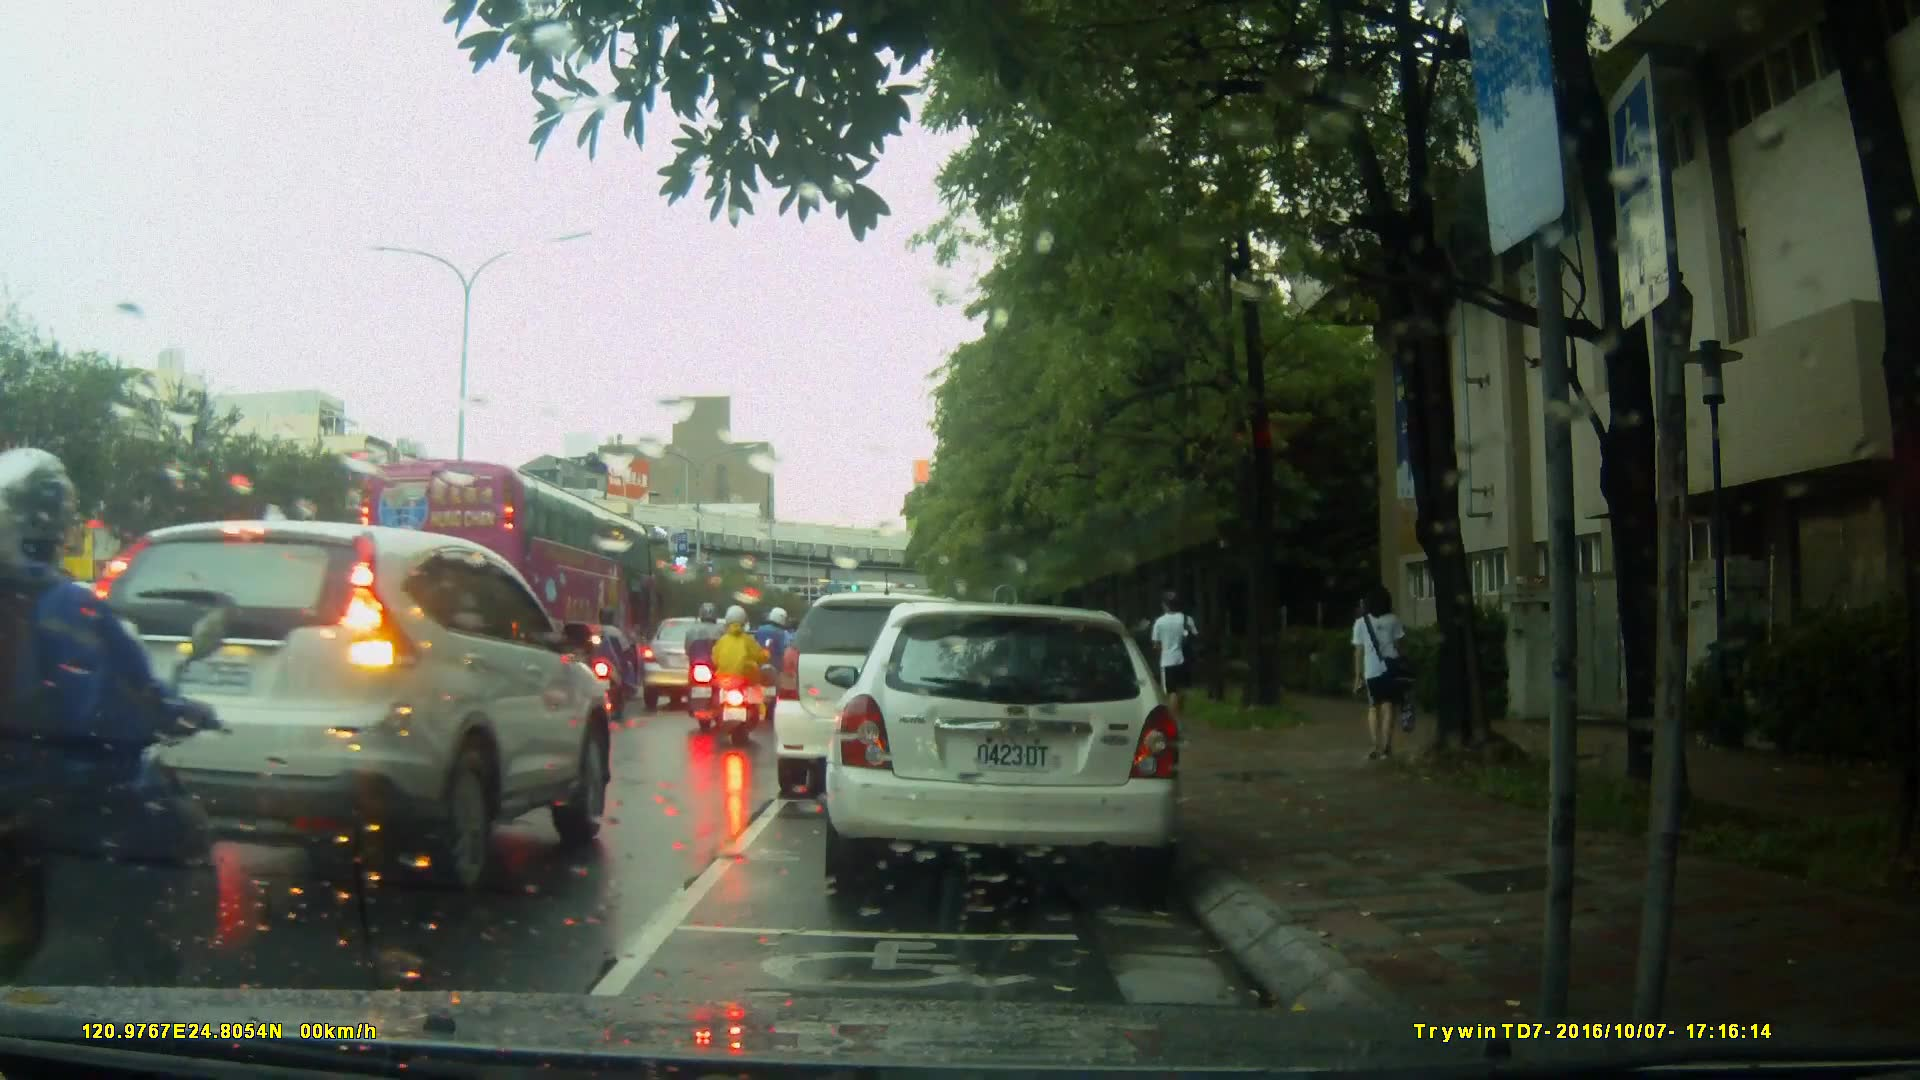pedestrian: (1335, 582, 1420, 780), (1149, 589, 1200, 728)
rider: (1, 454, 228, 1059), (706, 603, 761, 749), (677, 597, 731, 726), (576, 605, 642, 711), (752, 605, 800, 714)
vehicle: (50, 513, 607, 924), (835, 594, 1194, 898), (345, 460, 664, 690), (776, 590, 1026, 784), (643, 616, 757, 705)
